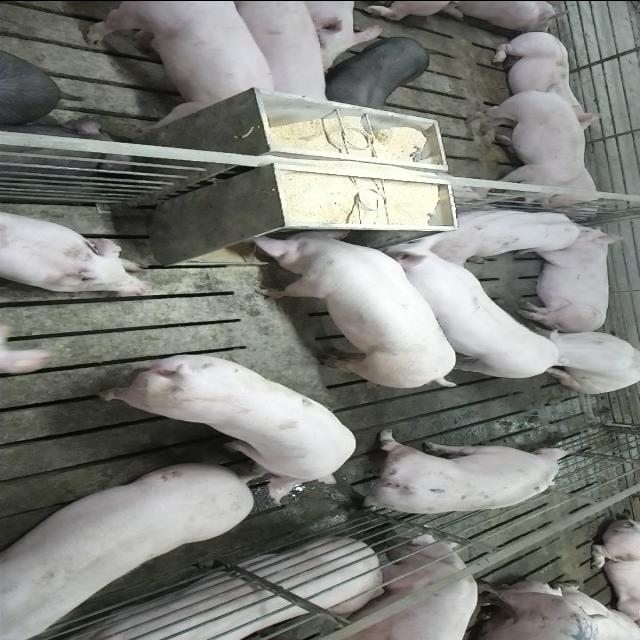Feeding: (236, 221, 464, 385)
Lateral_lying: (27, 539, 397, 640), (512, 224, 625, 334)
Sitting: (526, 325, 639, 393)
Standing: (1, 465, 258, 640), (90, 347, 352, 497), (372, 242, 562, 382), (77, 1, 275, 135), (347, 430, 573, 516), (458, 86, 598, 216), (326, 534, 478, 640), (216, 3, 334, 115), (326, 36, 434, 114)
Sternal_lying: (0, 205, 154, 291), (486, 30, 610, 126), (0, 309, 58, 376)
